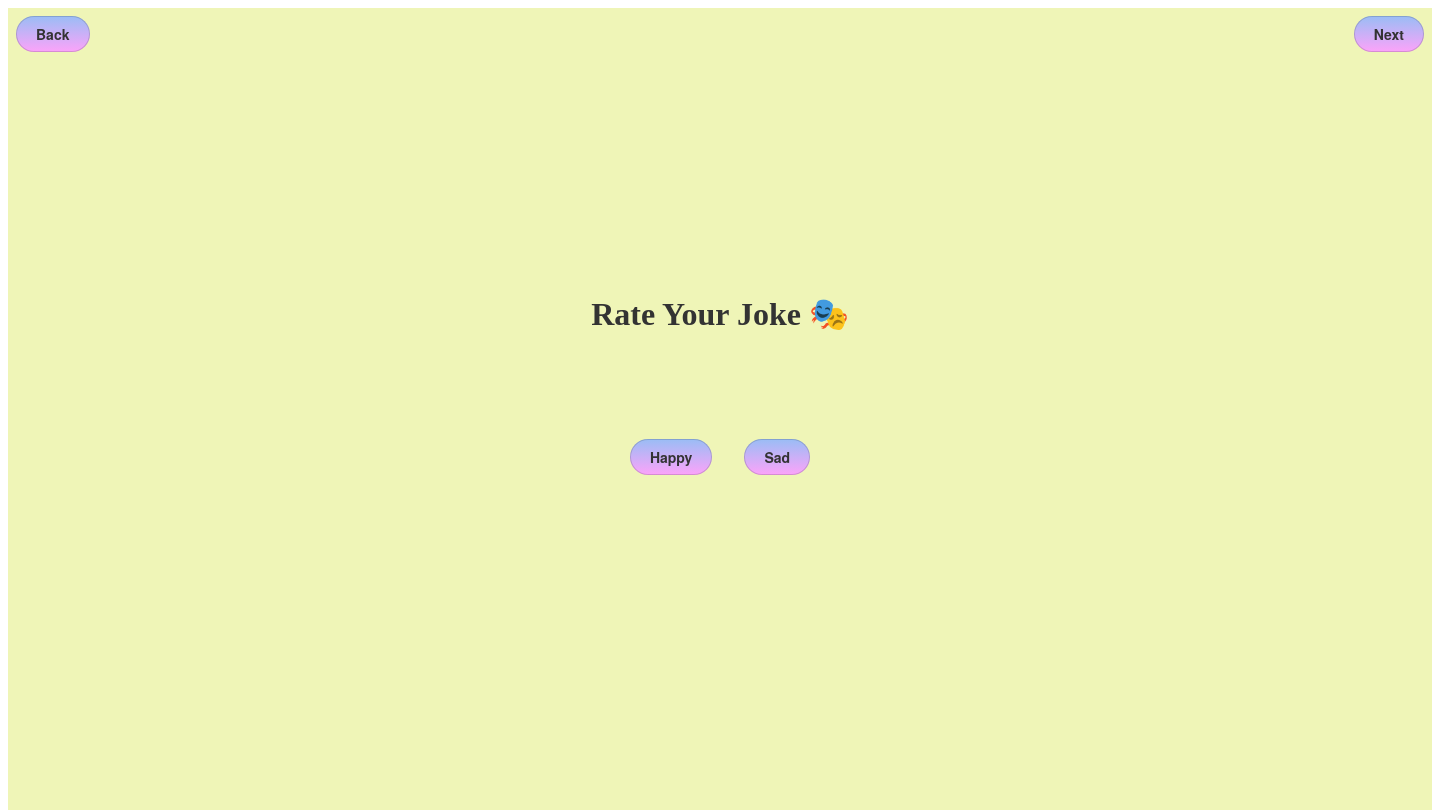
Test: RateJoke › updates the happy state when the happy button is clicked
The width and height of the screenshot is (1440, 810).
Click the button "Happy".
click(671, 457)  # box [630,439,712,475]
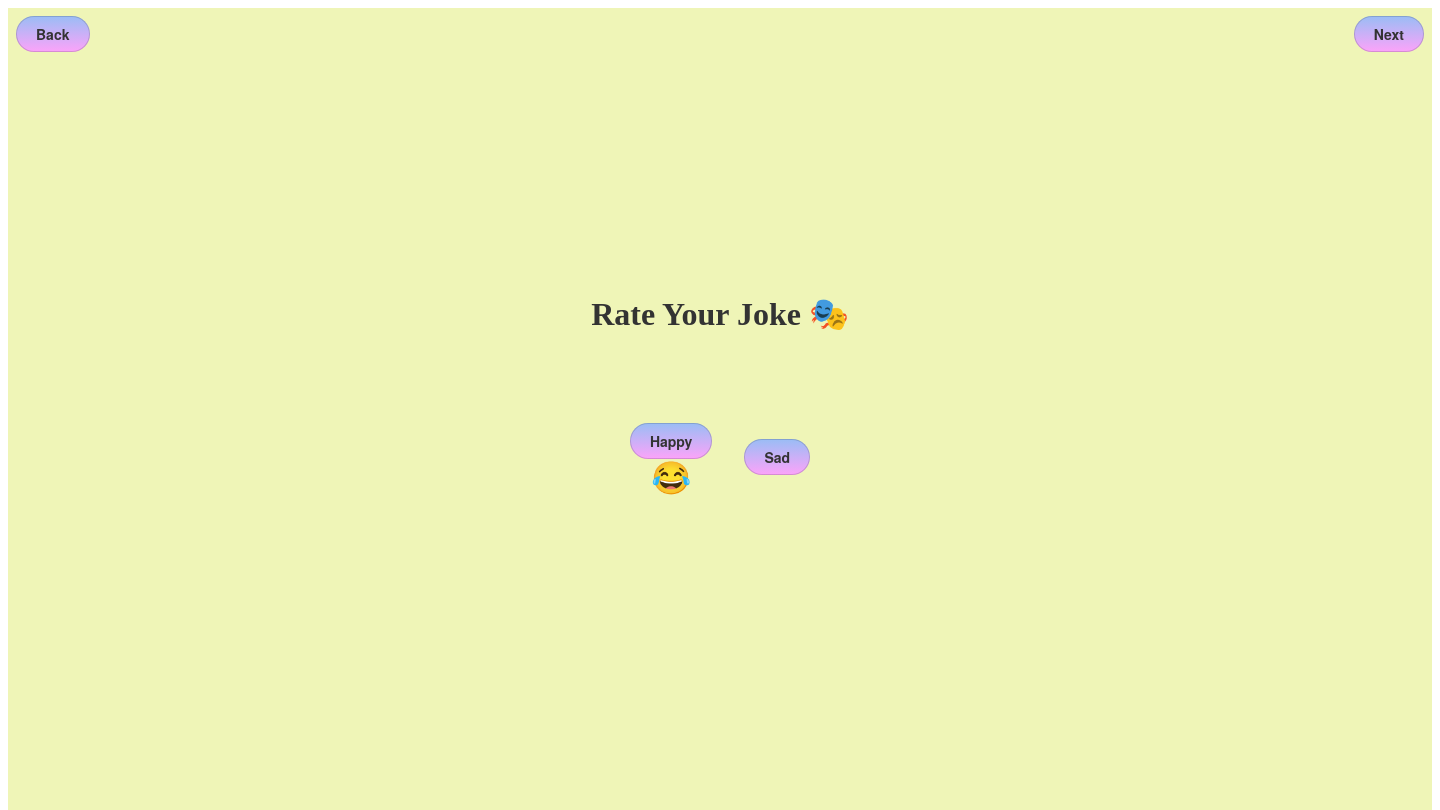
Now the text "😂" is shown, box [651,459,691,491]
